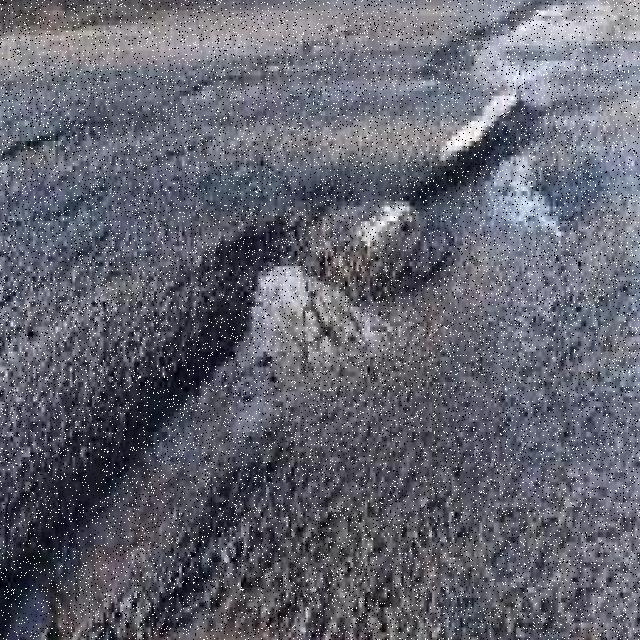pothole: (0, 1, 615, 640)
